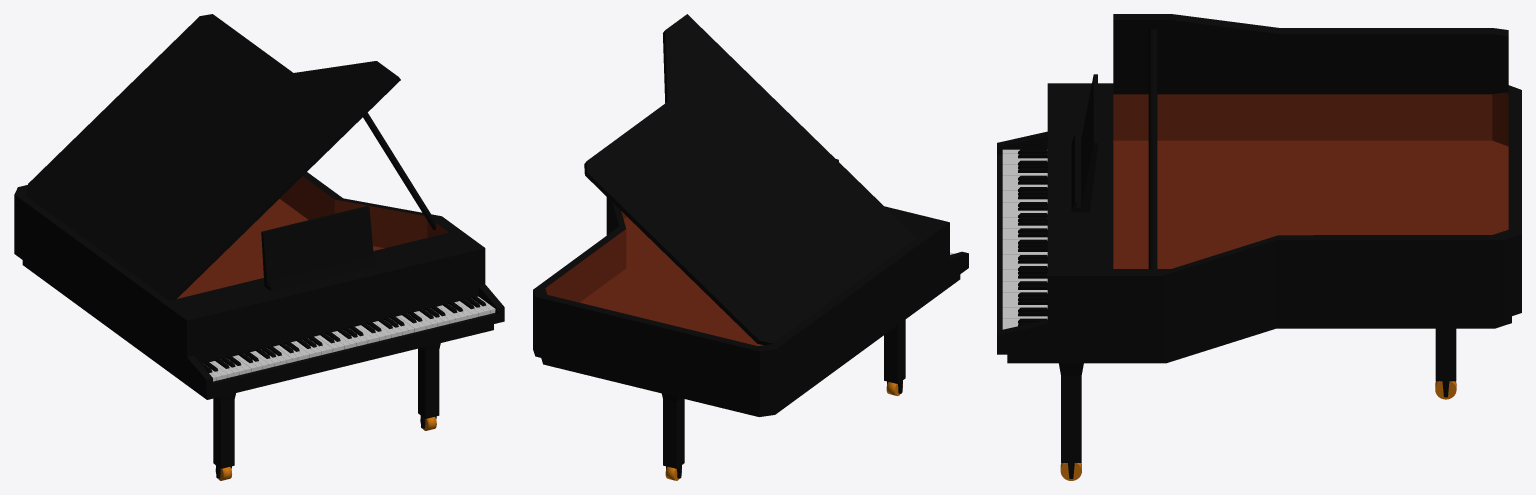
The model's file is piano.obj.
3 views of the same model, side by side, from view 1: azimuth 30°, elevation 25°; view 2: azimuth 150°, elevation 25°; view 3: azimuth 270°, elevation 25° (orthographic). The views are drawn at different scales.
Parts seen in each view (by area): view 1: Cube.002_Cube.006, wood; view 2: Cube.002_Cube.006, wood; view 3: Cube.002_Cube.006, wood, gold.
Boxes of the visible parts, x1,y1,x2,y2 form: Cube.002_Cube.006: [14, 14, 504, 478]; wood: [177, 176, 448, 298]; Cube.002_Cube.006: [533, 14, 968, 478]; wood: [545, 211, 763, 345]; Cube.002_Cube.006: [997, 14, 1521, 478]; wood: [1113, 92, 1508, 268]; gold: [1060, 381, 1456, 480].
Size of the model in its own units: 2 by 2.21 by 2.3.
